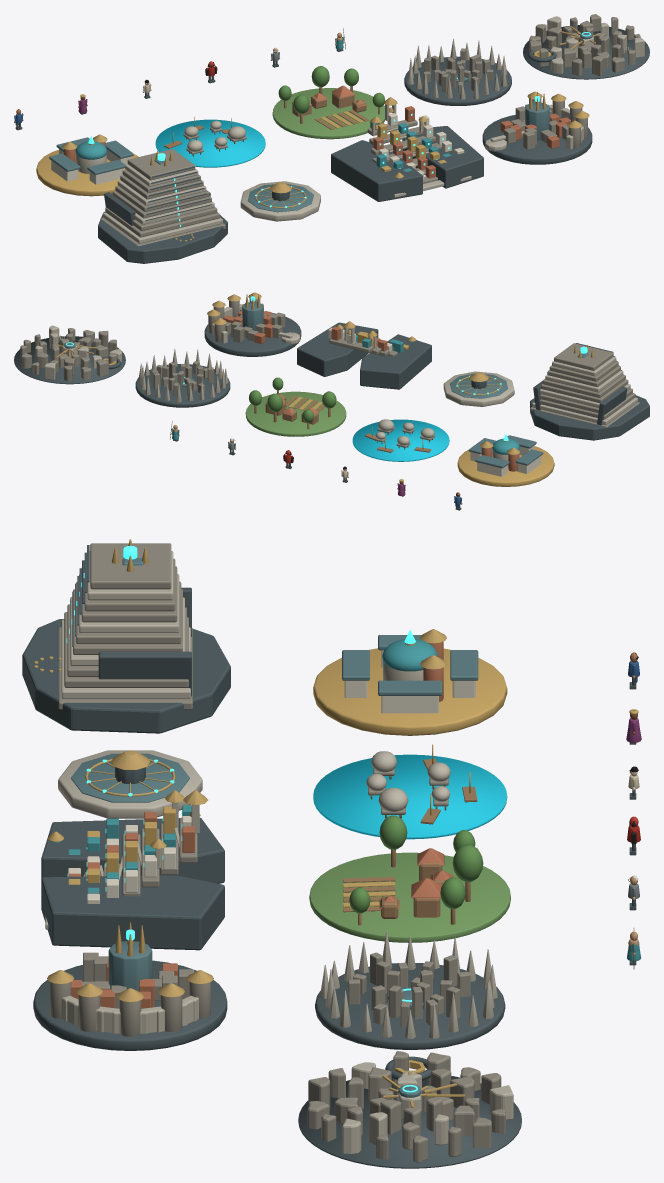
Rendered from roshar-landmarks.glb.
The picture shows the model from 3 angles, top to bottom: view 1: azimuth 30°, elevation 25°; view 2: azimuth 150°, elevation 25°; view 3: azimuth 270°, elevation 25°; orthographic projection. The views are drawn at different scales.
Visible parts, largest first — view 1: Kharbranth_Mountain_-1, Purelake_Water_Shelf, Shinovar_Grass_Valley, Urithiru_Mountain_Base, Akinah_Island, Kholinar_City_Rock, Kharbranth_Mountain_1, ShatteredPlains_Chasm_Floor, Azimir_Civic_Platform, Oathgate_Decagonal_Dais, Urithiru_Stratum_12, Oathgate_Inlay (+14 smaller); view 2: Purelake_Water_Shelf, Shinovar_Grass_Valley, Kharbranth_Mountain_-1, Urithiru_Mountain_Base, Kharbranth_Mountain_1, Azimir_Civic_Platform, Akinah_Island, Kholinar_City_Rock, ShatteredPlains_Chasm_Floor, Oathgate_Decagonal_Dais, Urithiru_Stratum_12, Oathgate_Inlay (+12 smaller); view 3: Kharbranth_Mountain_1, Purelake_Water_Shelf, Shinovar_Grass_Valley, Urithiru_Mountain_Base, Azimir_Civic_Platform, Akinah_Island, ShatteredPlains_Chasm_Floor, Kharbranth_Mountain_-1, Kholinar_City_Rock, Urithiru_Stratum_12, Oathgate_Inlay, Oathgate_Decagonal_Dais (+16 smaller).
Part boxes in pixels (x1=…): Kharbranth_Mountain_-1: x1=331, y1=140, x2=422, y2=201; Purelake_Water_Shelf: x1=155, y1=119, x2=265, y2=167; Shinovar_Grass_Valley: x1=272, y1=88, x2=385, y2=139; Urithiru_Mountain_Base: x1=98, y1=212, x2=227, y2=263; Akinah_Island: x1=404, y1=56, x2=511, y2=105; Kholinar_City_Rock: x1=482, y1=115, x2=592, y2=164; Kharbranth_Mountain_1: x1=402, y1=126, x2=483, y2=188; ShatteredPlains_Chasm_Floor: x1=523, y1=25, x2=649, y2=79; Azimir_Civic_Platform: x1=36, y1=150, x2=138, y2=196; Oathgate_Decagonal_Dais: x1=240, y1=181, x2=320, y2=221; Urithiru_Stratum_12: x1=127, y1=149, x2=195, y2=180; Oathgate_Inlay: x1=247, y1=183, x2=313, y2=212; Purelake_Water_Shelf: x1=352, y1=419, x2=449, y2=461; Shinovar_Grass_Valley: x1=245, y1=391, x2=346, y2=436; Kharbranth_Mountain_-1: x1=360, y1=334, x2=431, y2=389; Urithiru_Mountain_Base: x1=530, y1=395, x2=649, y2=440; Kharbranth_Mountain_1: x1=297, y1=322, x2=378, y2=376; Azimir_Civic_Platform: x1=457, y1=446, x2=554, y2=486; Akinah_Island: x1=135, y1=364, x2=230, y2=407; Kholinar_City_Rock: x1=204, y1=313, x2=301, y2=356; ShatteredPlains_Chasm_Floor: x1=14, y1=336, x2=125, y2=384; Oathgate_Decagonal_Dais: x1=443, y1=371, x2=514, y2=406; Urithiru_Stratum_12: x1=554, y1=343, x2=613, y2=370; Oathgate_Inlay: x1=450, y1=373, x2=508, y2=398; Kharbranth_Mountain_1: x1=41, y1=875, x2=224, y2=950; Purelake_Water_Shelf: x1=313, y1=754, x2=507, y2=839; Shinovar_Grass_Valley: x1=309, y1=852, x2=510, y2=942; Urithiru_Mountain_Base: x1=22, y1=619, x2=230, y2=733; Azimir_Civic_Platform: x1=313, y1=648, x2=507, y2=735; Akinah_Island: x1=315, y1=963, x2=505, y2=1049; ShatteredPlains_Chasm_Floor: x1=298, y1=1076, x2=521, y2=1168; Kharbranth_Mountain_-1: x1=41, y1=817, x2=224, y2=883; Kholinar_City_Rock: x1=33, y1=960, x2=227, y2=1050; Urithiru_Stratum_12: x1=90, y1=543, x2=171, y2=589; Oathgate_Inlay: x1=71, y1=753, x2=189, y2=802; Oathgate_Decagonal_Dais: x1=58, y1=750, x2=202, y2=818.
Bounding box in the file's own units: 66.99 × 8.64 × 33.21.
